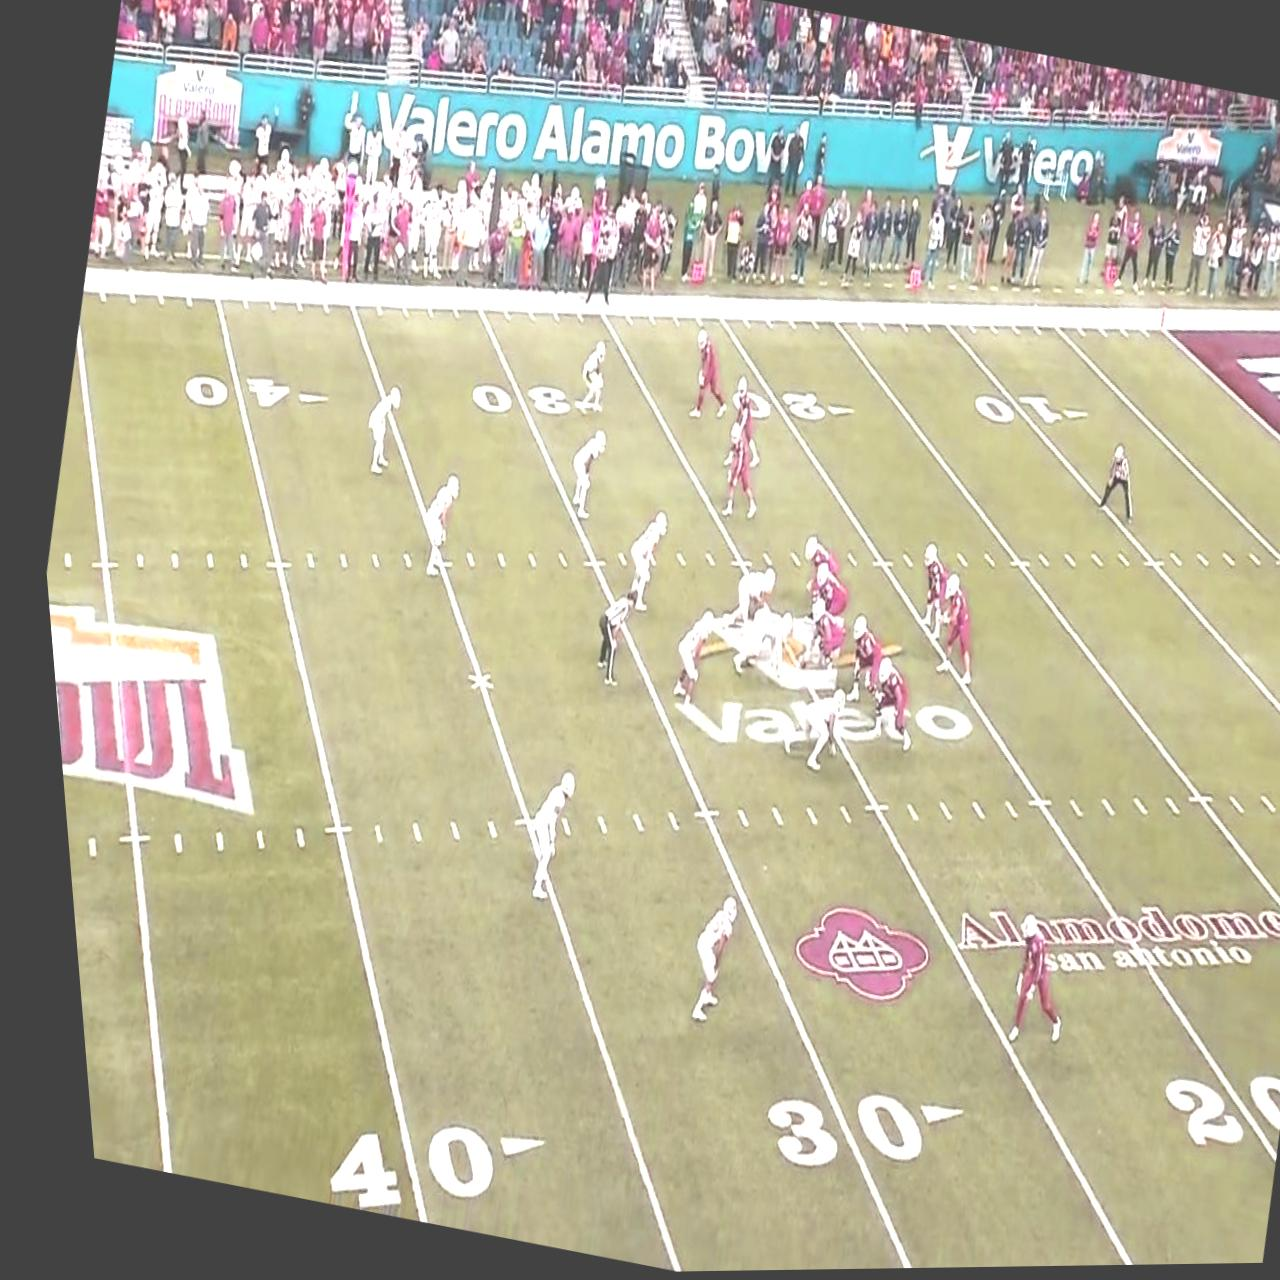10R: (962, 382, 1087, 449)
20R: (1135, 1058, 1273, 1166), (721, 375, 853, 442)
30R: (734, 1070, 952, 1200), (459, 370, 602, 440)
40R: (299, 1095, 533, 1247), (175, 360, 327, 433)
